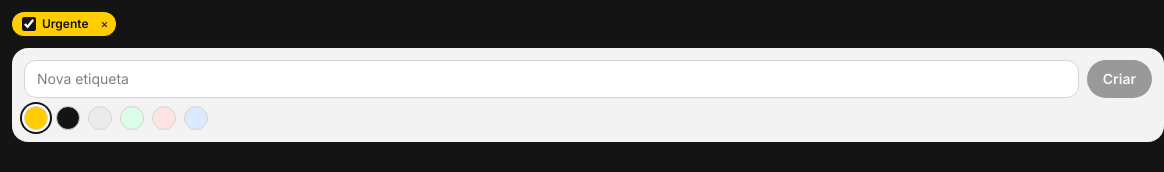
Test case: seletor de etiquetas › exclui etiqueta do quadro e do cartão apenas com confirmação true
What coordinates should you click on to do the following:
click the button named "Excluir etiqueta Urgente"
I would click on:
 (106, 24)
Its box is [96,12,116,36].
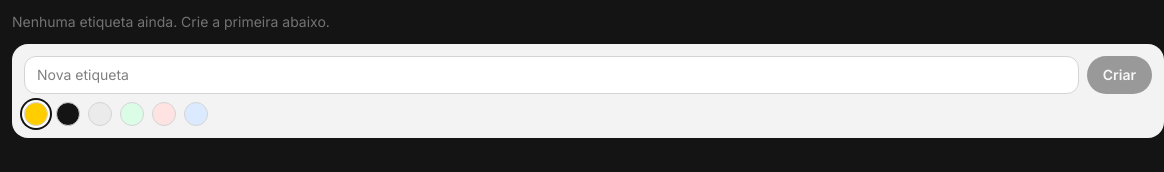
Expected: the label "Urgente" is gone
